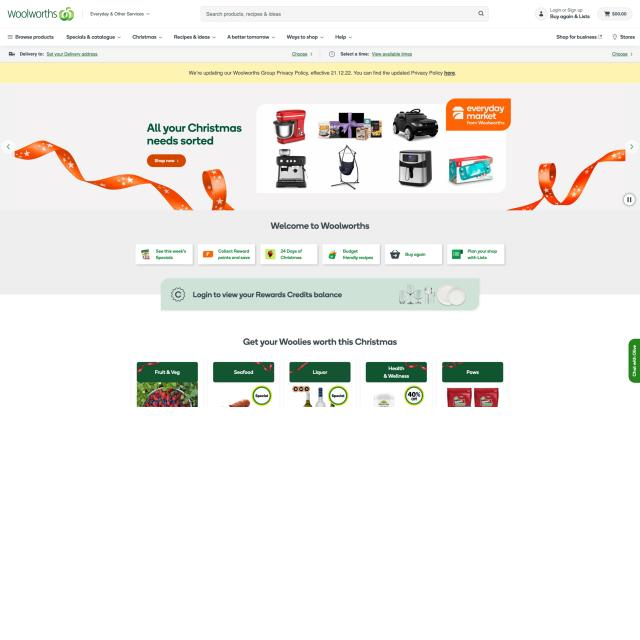input: (200, 5, 490, 22)
logo: (6, 6, 75, 23)
navigation: (134, 243, 506, 265), (7, 32, 357, 42)
